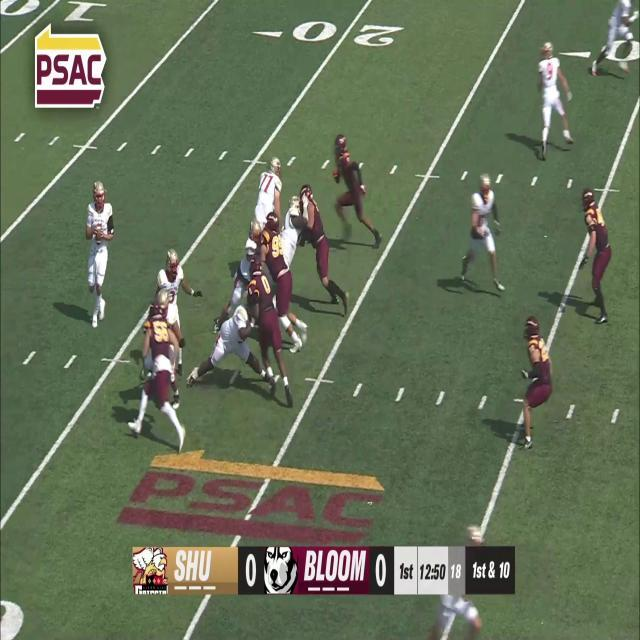football: (94, 221, 103, 247)
